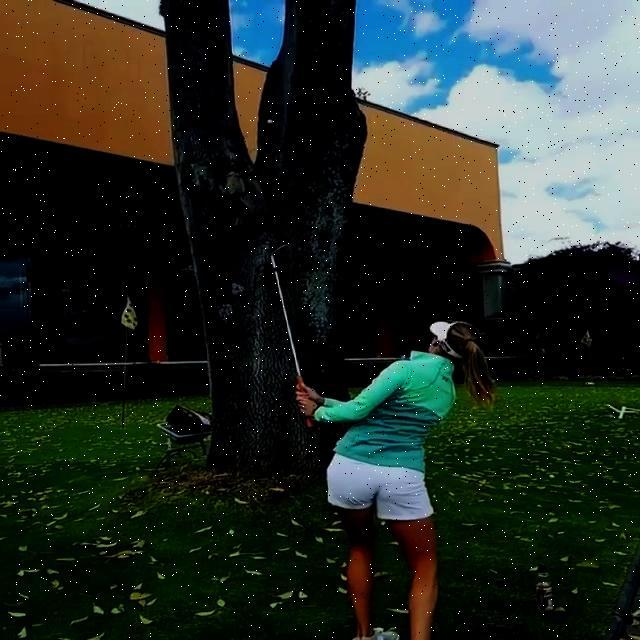ClubHandle: (270, 244, 318, 427)
ClubHead: (270, 243, 290, 259)
